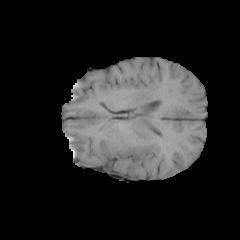glioma: (100, 129, 153, 170)
